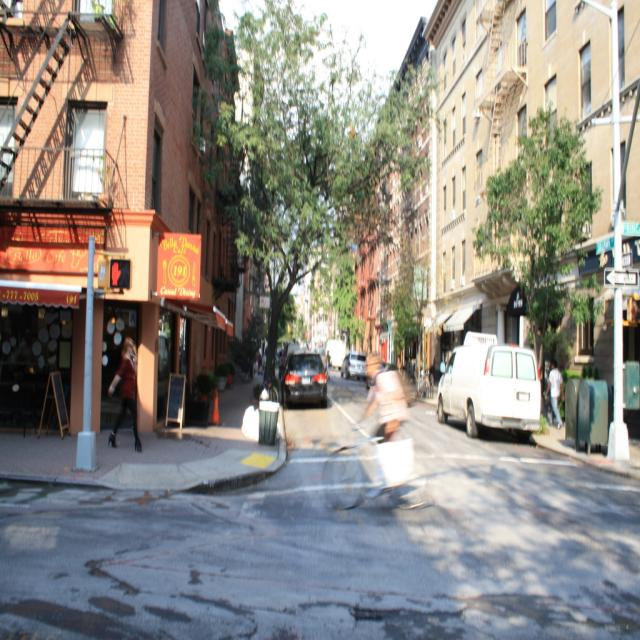car: (276, 352, 335, 408)
